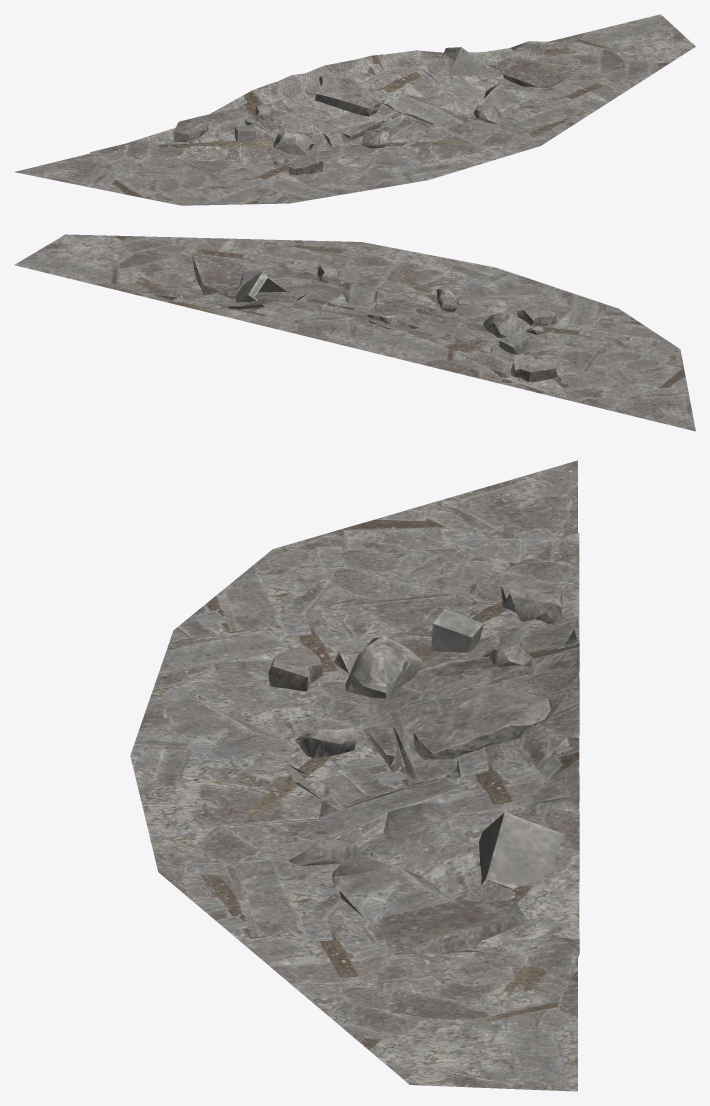
The model's file is debris_pile_straight_a.glb.
The picture shows the model from 3 angles, top to bottom: view 1: azimuth 30°, elevation 25°; view 2: azimuth 150°, elevation 25°; view 3: azimuth 270°, elevation 25°; orthographic projection. The views are drawn at different scales.
Visible parts, largest first — view 1: debris_pile_straight_a_LOD0; view 2: debris_pile_straight_a_LOD0; view 3: debris_pile_straight_a_LOD0.
Boxes of the visible parts, x1,y1,x2,y2 form: debris_pile_straight_a_LOD0: (14, 14, 695, 205); debris_pile_straight_a_LOD0: (14, 234, 695, 431); debris_pile_straight_a_LOD0: (130, 460, 579, 1091).
Size of the model in its own units: 1.59 by 0.092 by 0.479.
Materials: 2 (2 with a texture image).
